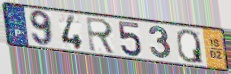3: (147, 24, 172, 60)
4: (60, 14, 85, 51)
5: (116, 19, 143, 58)
9: (28, 9, 54, 49)
Q: (176, 28, 205, 65)
R: (84, 16, 117, 56)
